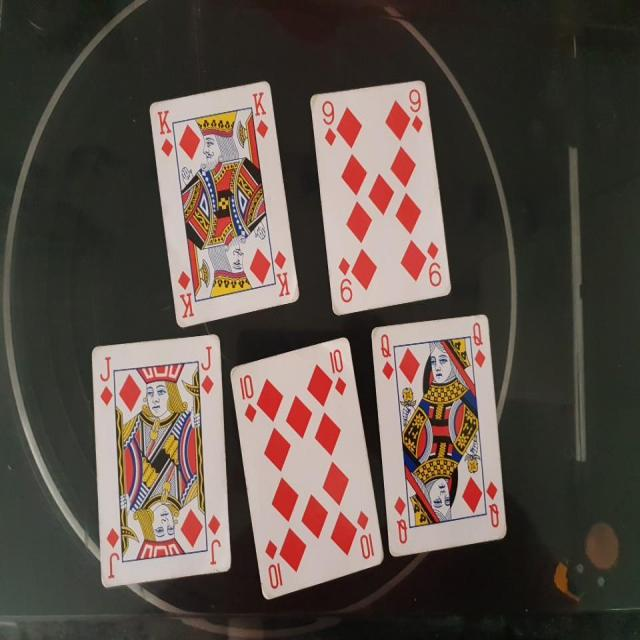10 Diamonds: (229, 333, 384, 602)
9 Diamonds: (308, 79, 453, 318)
J Diamonds: (90, 332, 232, 590)
K Diamonds: (147, 79, 301, 328)
Q Diamonds: (368, 310, 508, 558)
